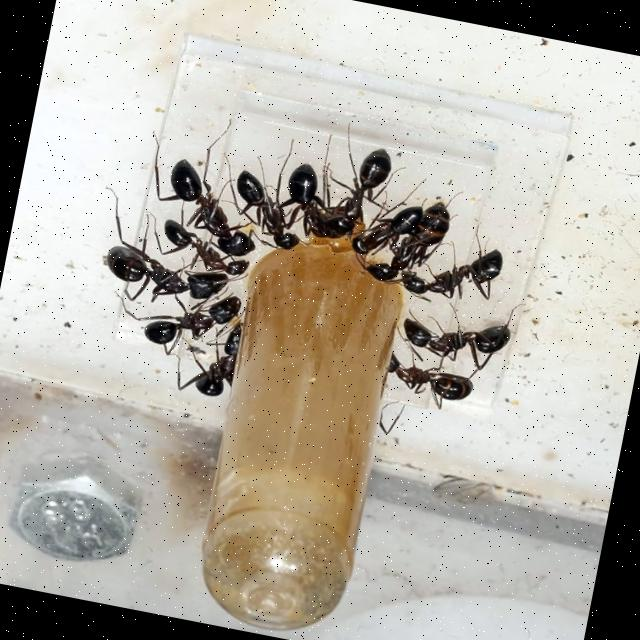Medior: (132, 105, 278, 263), (88, 191, 241, 318), (362, 186, 456, 293)
Minor: (391, 284, 523, 378), (116, 275, 246, 367), (398, 218, 509, 313), (215, 156, 314, 254), (379, 352, 477, 422)
